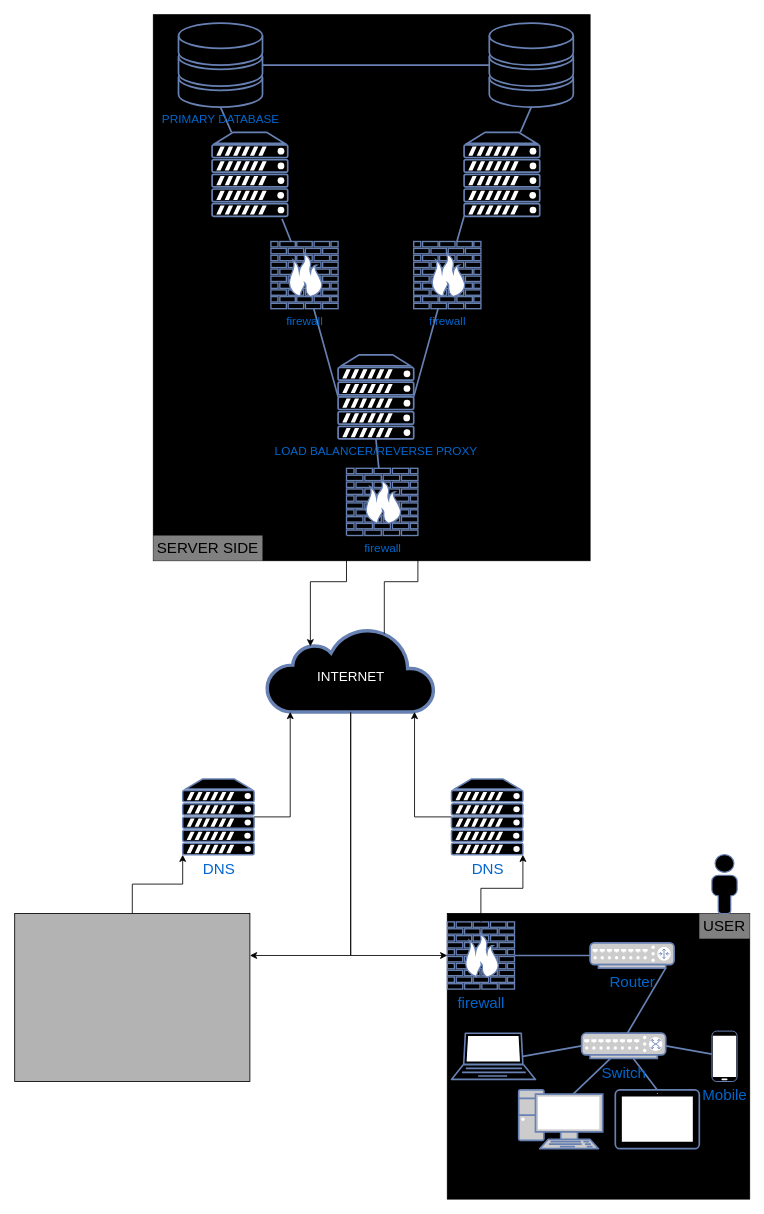
Some shapes in this 764 by 1214 pixel diagram are drawn without their labels. The shapes that lost their labels are listed below. From the top down, each one's box as (x1, y1, x2, y2) in pixels, then its label:
(488, 22, 574, 108): REPLICA DATABASE
(211, 131, 288, 217): SERVER 1
(463, 131, 540, 217): SERVER 2
(14, 913, 250, 1082): IoT SETUP
(450, 1032, 536, 1080): Laptop
(517, 1089, 603, 1149): Desktop
(614, 1089, 700, 1149): Tablet
